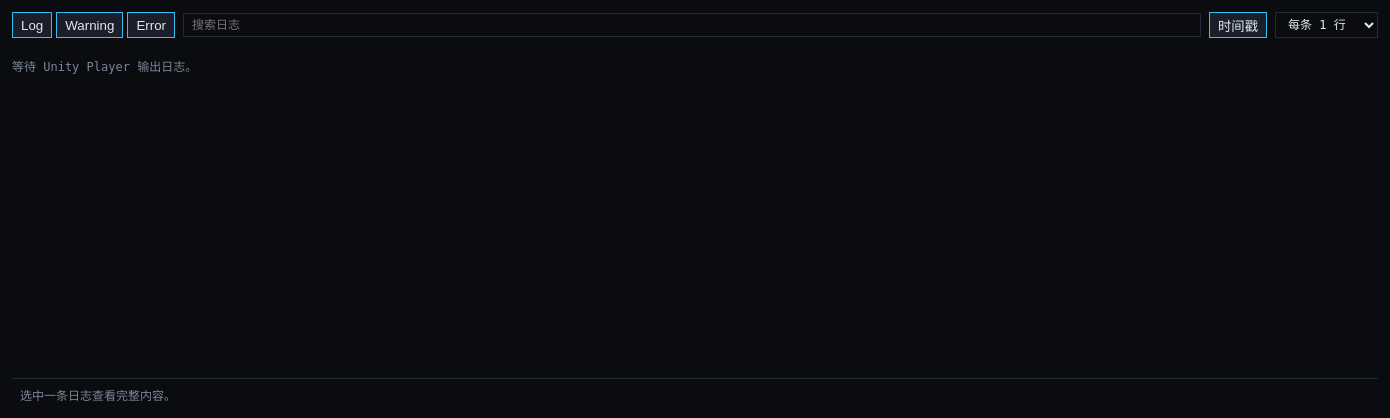
Test: applies active filters to incoming logs and retains hidden entries
Click the button "Warning" at (90, 25), box [56,12,123,38]
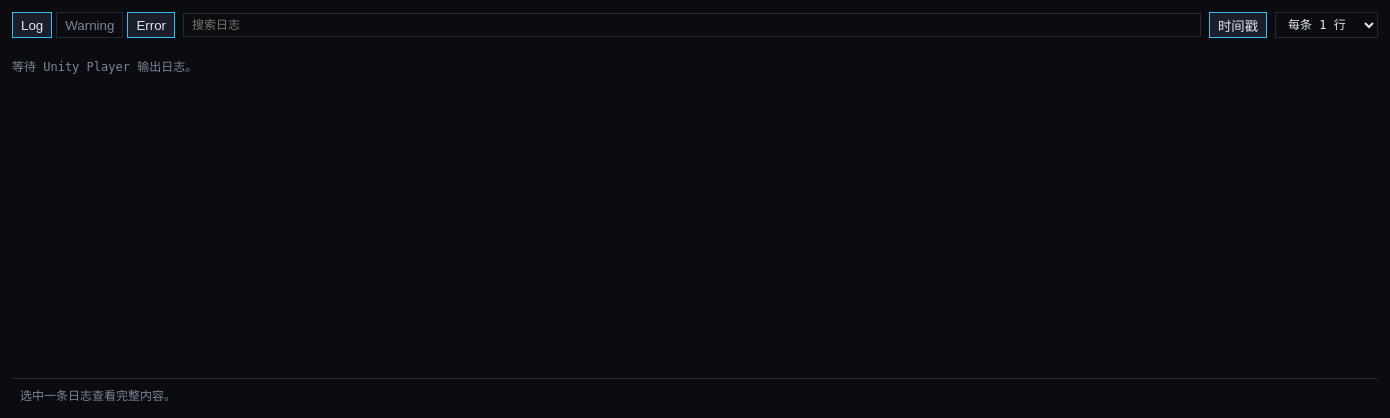
Type "matching" into the search field at (692, 25), box [183,13,1201,37]
Wait 500 ms
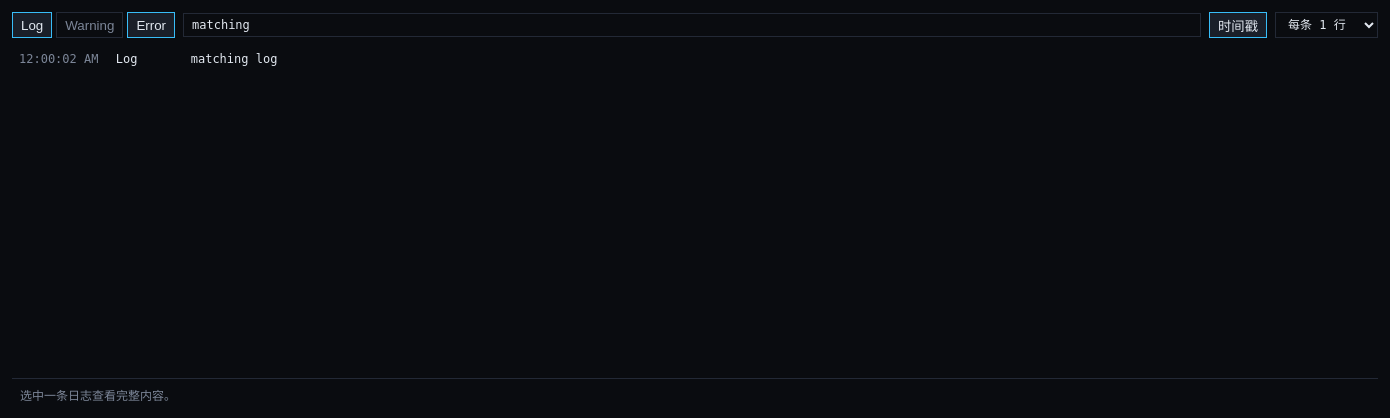
Expected: the text "matching warning" is not shown
Expected: the text "matching log" is shown, [191,52,277,66]
Click the button "Warning" at (90, 25), box [56,12,123,38]
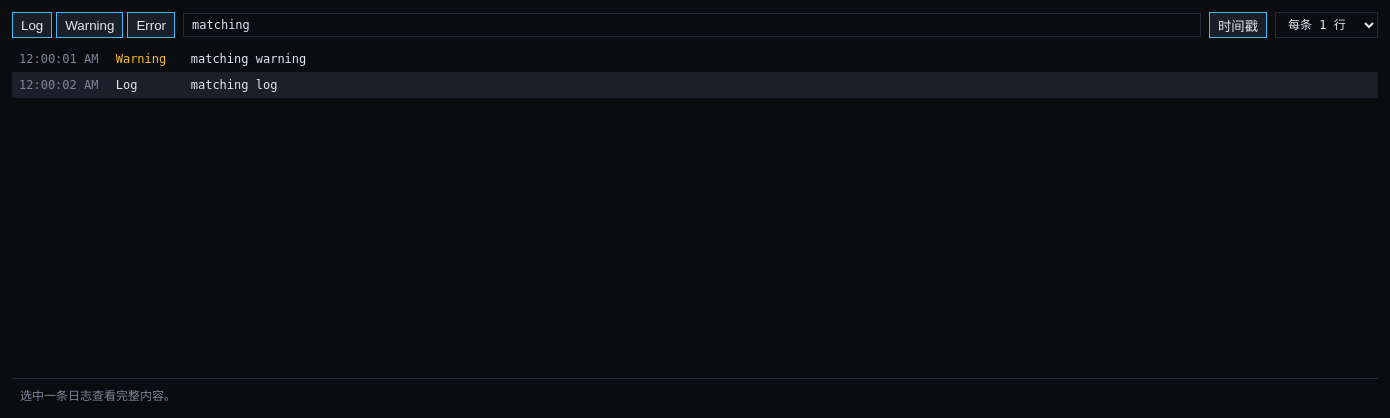
Expected: the text "matching warning" is shown, [191,52,306,66]
Clear the search field at (692, 25), box [183,13,1201,37]
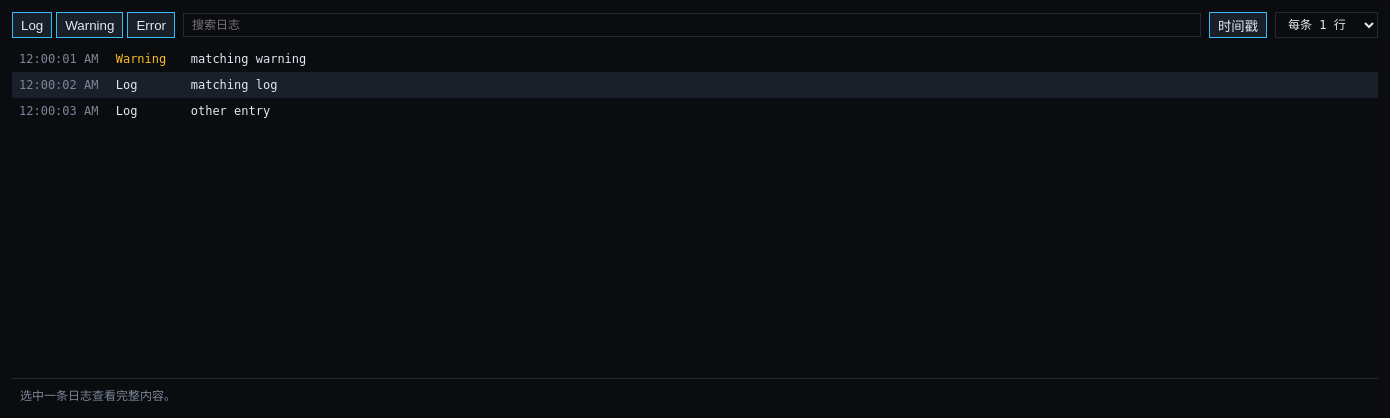
Expected: the text "other entry" is shown, [191,104,270,118]
